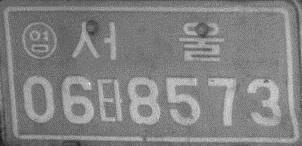0: (21, 74, 56, 124)
3: (246, 76, 282, 127)
5: (165, 74, 201, 127)
6: (60, 74, 94, 125)
7: (206, 74, 240, 126)
8: (126, 76, 160, 125)
서울_D: (70, 19, 224, 63)
영: (20, 20, 57, 60)
타: (96, 77, 124, 123)
